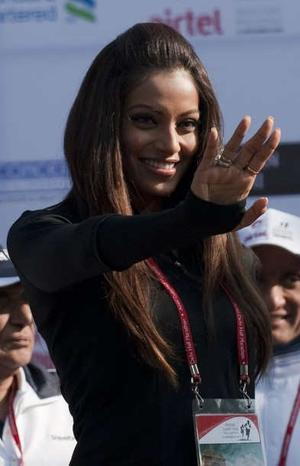person: (8, 20, 281, 466)
